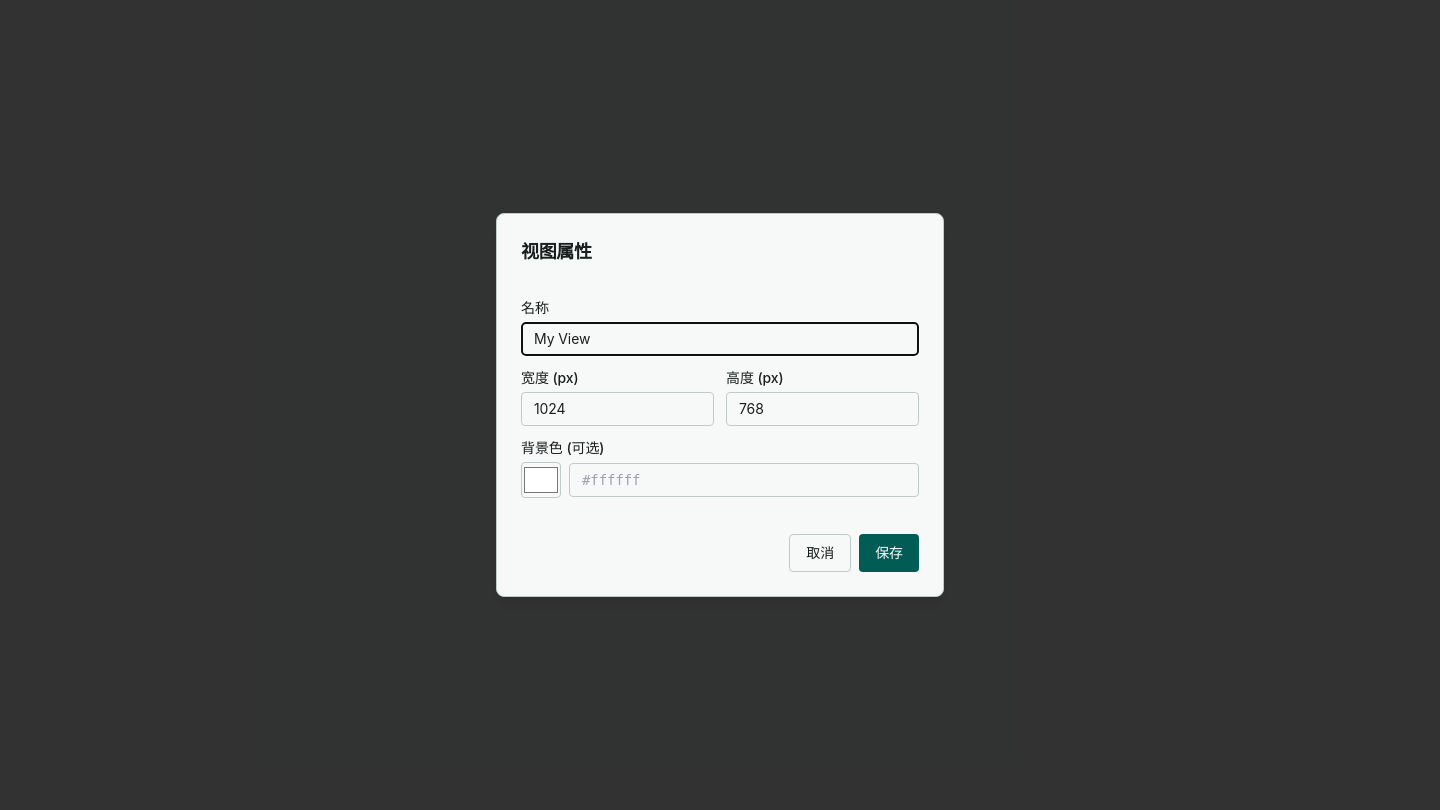
Test: ViewPropertyDialog (SP-FX-2) › Save disabled when name empty
Clear the field labelled "名称" at (720, 339), box x1=521 y1=322 x2=919 y2=356
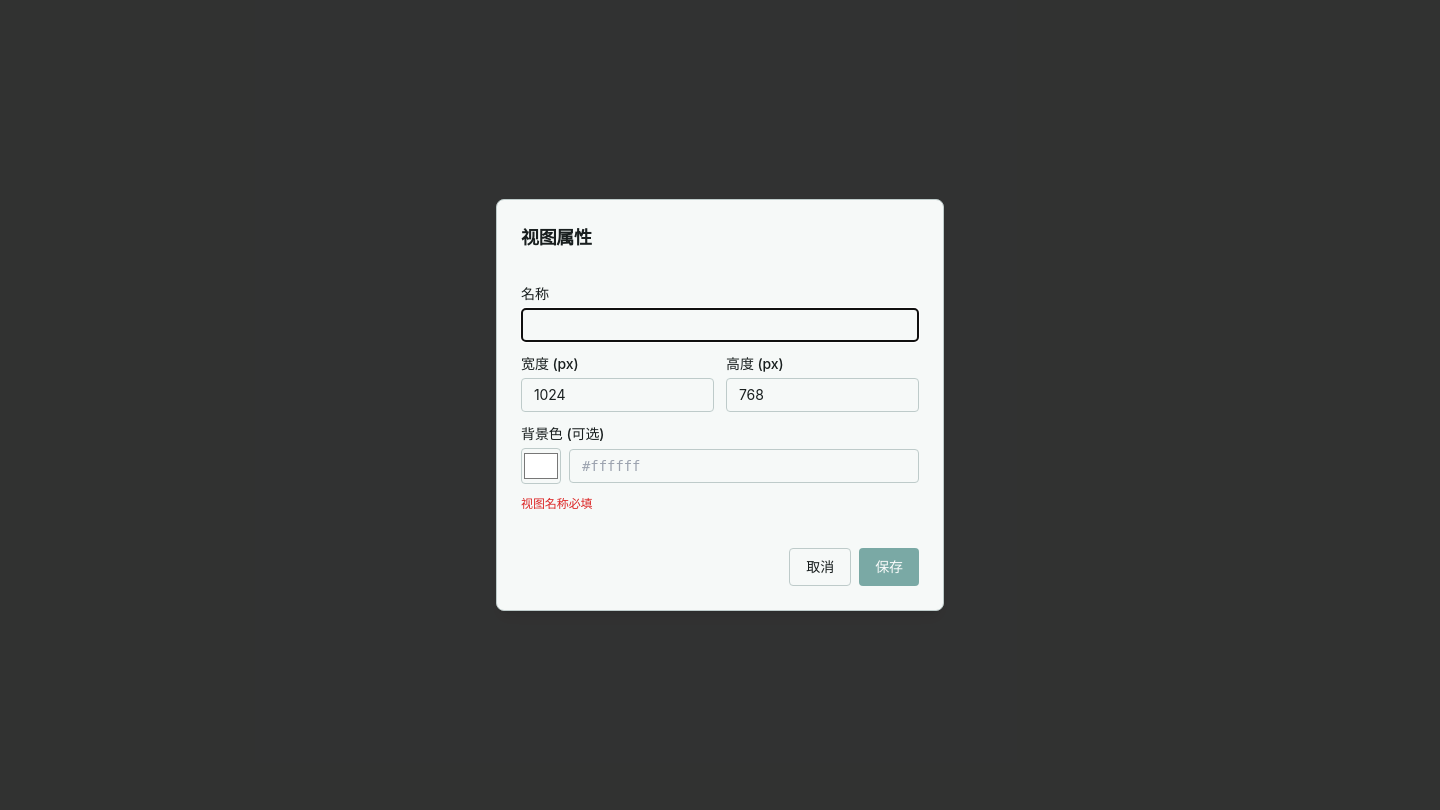
Now the button "保存" is disabled, box x1=859 y1=548 x2=919 y2=586
